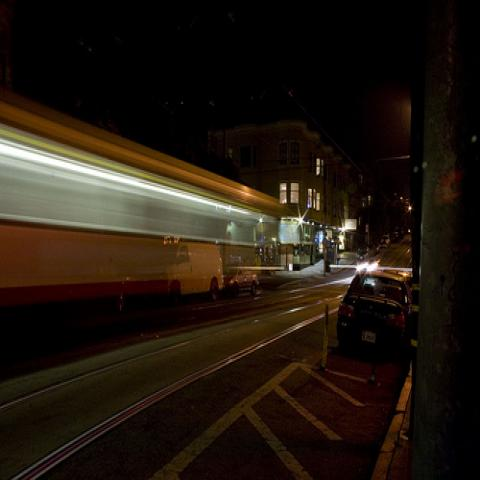bus: (278, 218, 316, 270)
car: (338, 267, 410, 356), (226, 267, 261, 297), (380, 231, 390, 246)
truck: (139, 242, 225, 302)
